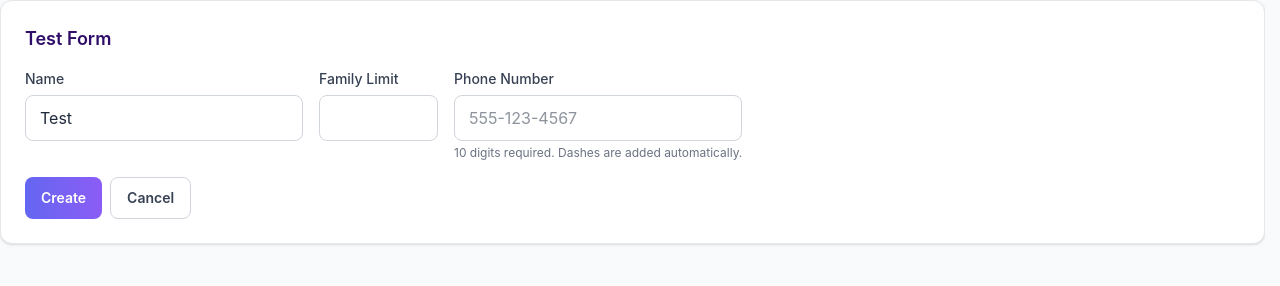
Test: ReferrerForm › clears phone error when user types into phone field
// Trigger error first
Submit the form, box x1=25 y1=70 x2=742 y2=219
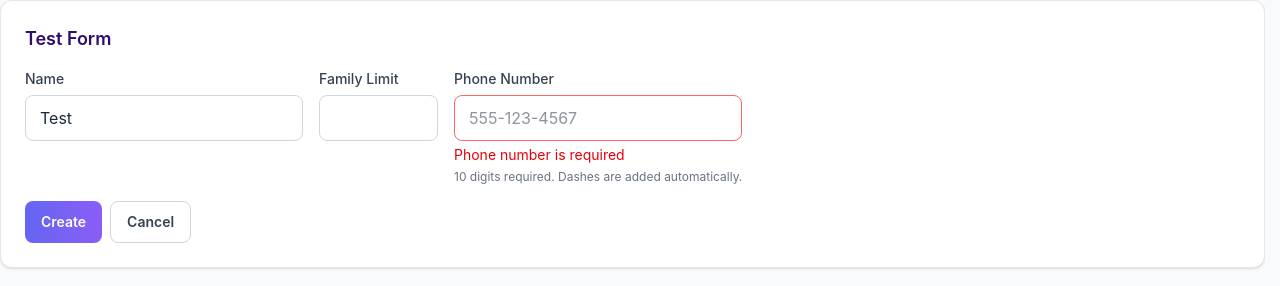
Expected: the text "Phone number is required" is shown, x1=454 y1=146 x2=625 y2=163
// Type a valid number — error should clear
In the field labelled "Phone Number": (598, 118) x1=454 y1=95 x2=742 y2=141, type "5559876543"
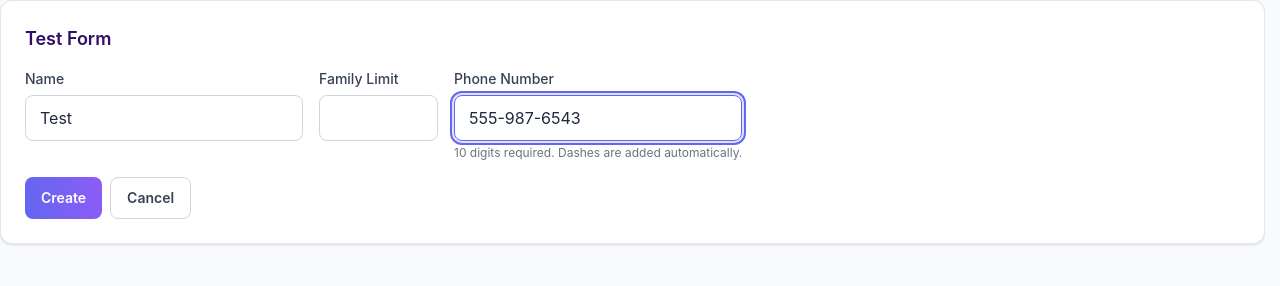
Expected: the text "Phone number is required" is gone
